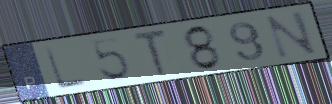5: (89, 35, 134, 83)
8: (180, 22, 223, 73)
9: (227, 20, 266, 62)
L: (42, 45, 91, 91)
N: (263, 9, 320, 61)
T: (131, 27, 170, 79)
